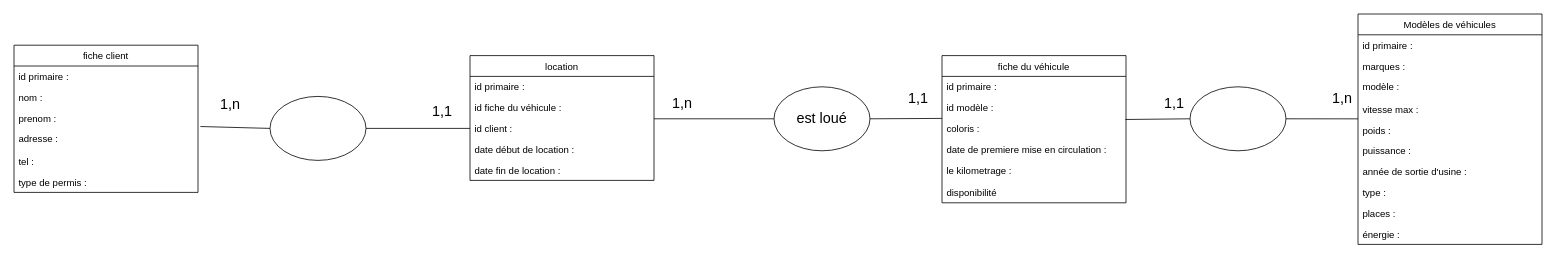
The diagram is 1556 pixels wide and 261 high, and some of its shapes have lost their labels. Each missing label, with the box of its shape:
loue: (269, 96, 366, 160)
répertorier: (1189, 86, 1286, 151)
